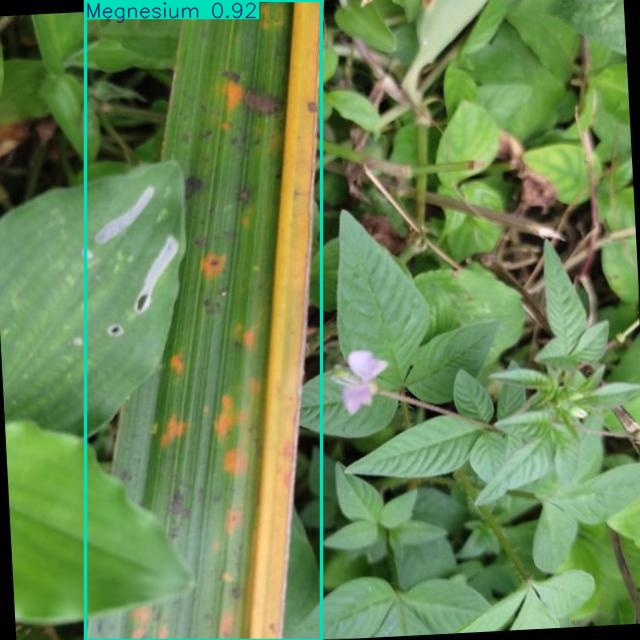Megnesium: (85, 1, 322, 640)
